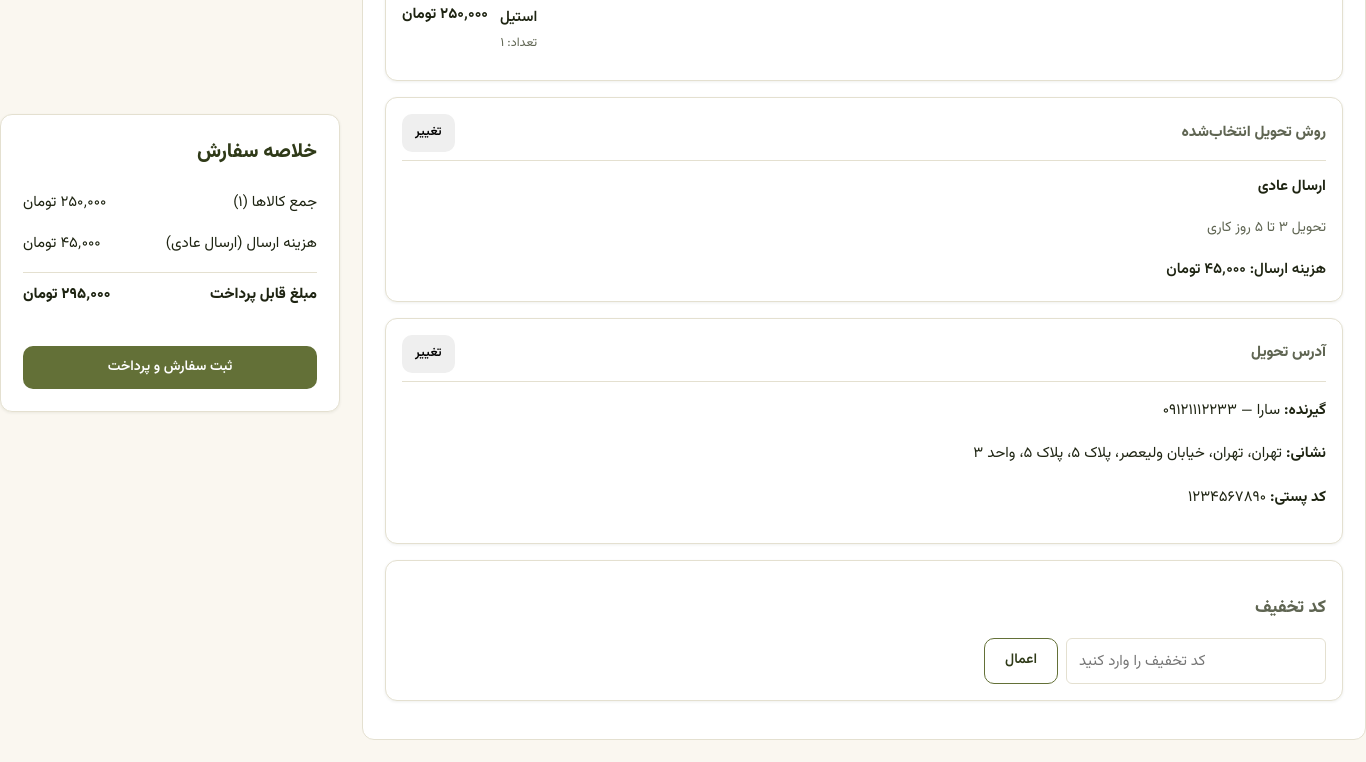
Test: Place-order button & flow validation (Task 2) › a typed but unapplied coupon code is reported before ordering
(page scrolled)
Type "OFF10" into the field with placeholder "کد تخفیف را وارد کنید".
click(1196, 661); type("OFF10")  # box top-left (1066, 638), bottom-right (1326, 684)
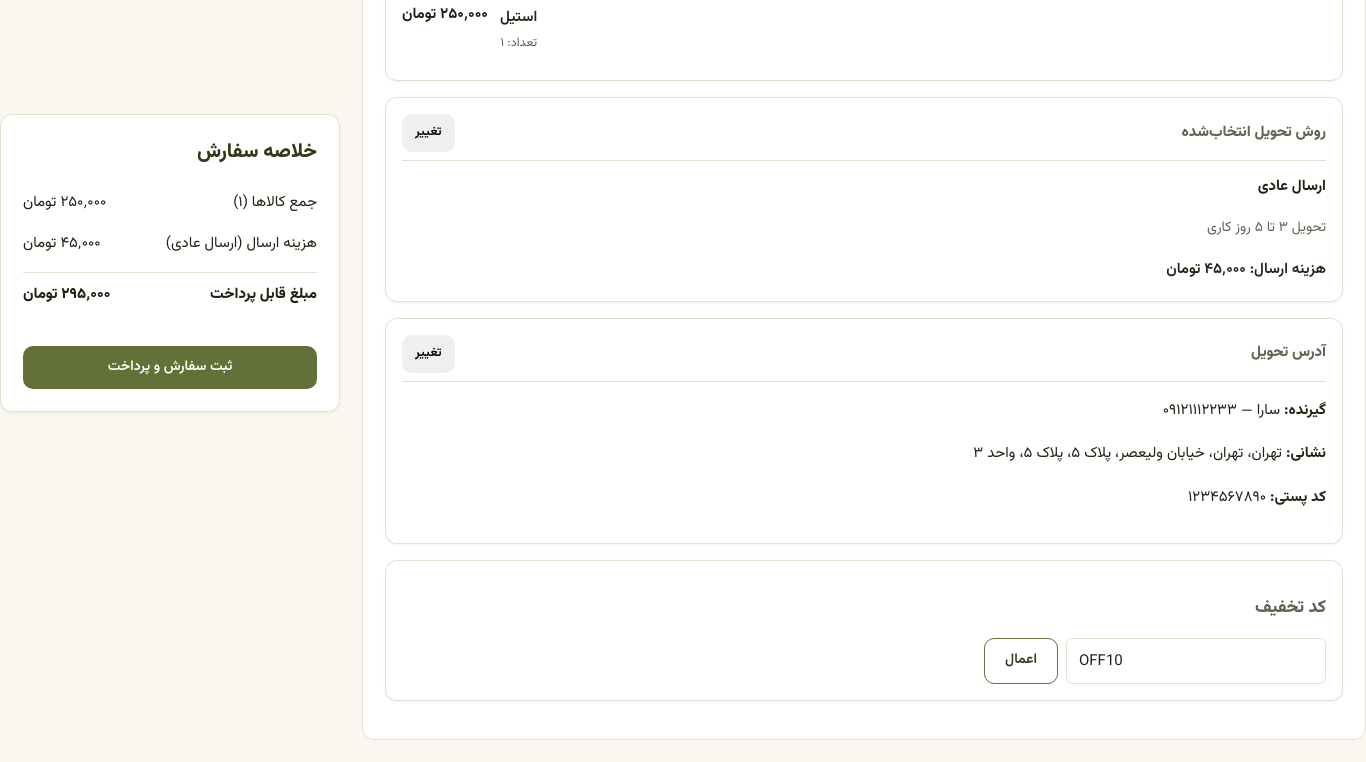
Click the button "ثبت سفارش و پرداخت".
click(170, 368)  # box top-left (23, 346), bottom-right (317, 390)
(page scrolled)
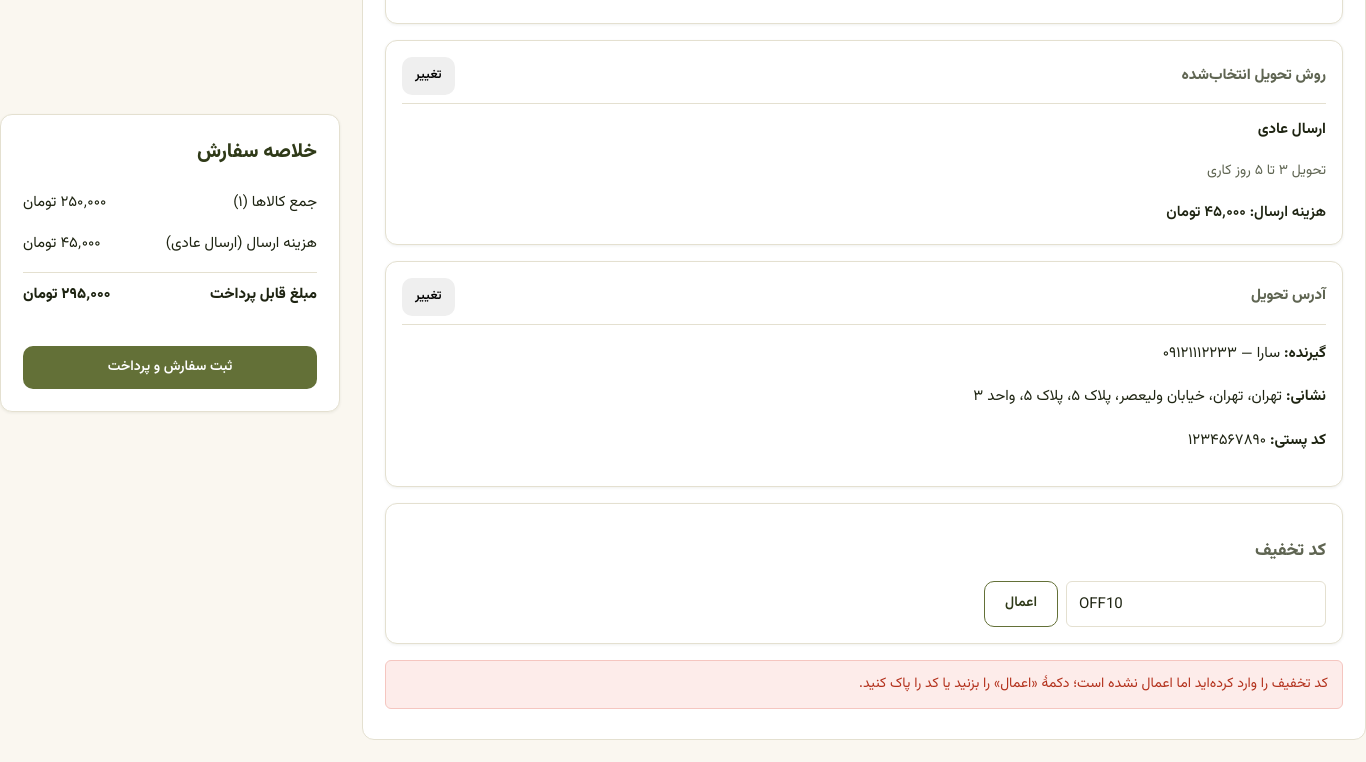
Expected: the text "کد تخفیف را وارد کرده‌اید اما اعمال نشده است" is shown, top-left (859, 673), bottom-right (1328, 695)
